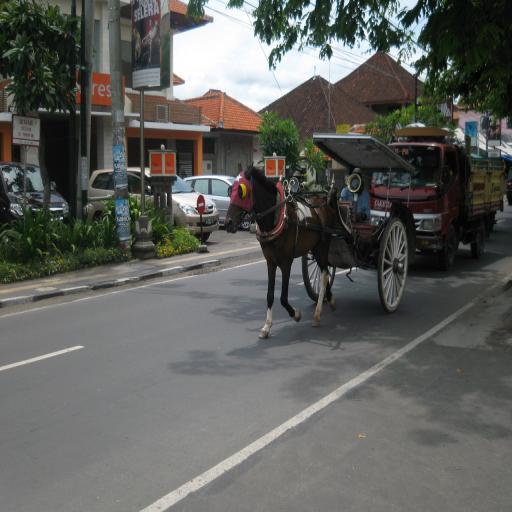horse: (224, 160, 337, 340)
